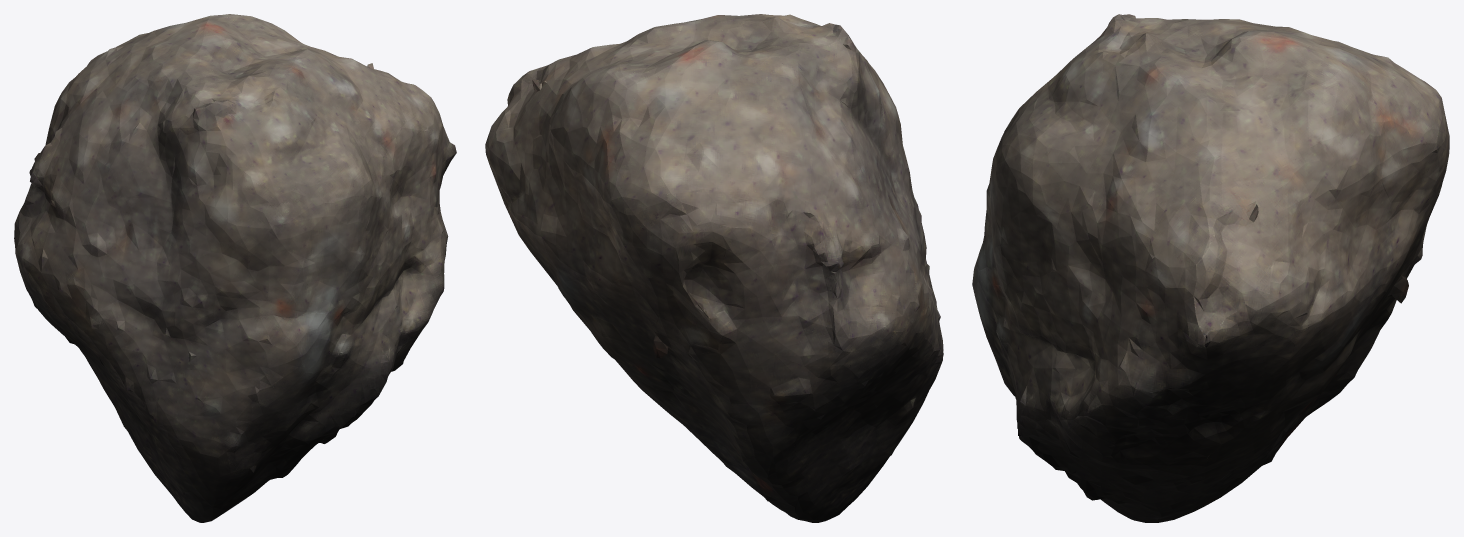
The model's file is rock4.glb.
The picture shows the model from 3 angles, left to right: view 1: azimuth 30°, elevation 25°; view 2: azimuth 150°, elevation 25°; view 3: azimuth 270°, elevation 25°; orthographic projection. The views are drawn at different scales.
Parts seen in each view (by area): view 1: world; view 2: world; view 3: world.
Boxes of the visible parts, box(x1,y1,x2,y2) form: world: box(14, 14, 456, 522); world: box(485, 14, 943, 522); world: box(972, 14, 1449, 522).
Bounding box in the file's own units: 0.5086 × 0.5402 × 0.4495.
Materials: 1 (1 with a texture image).
